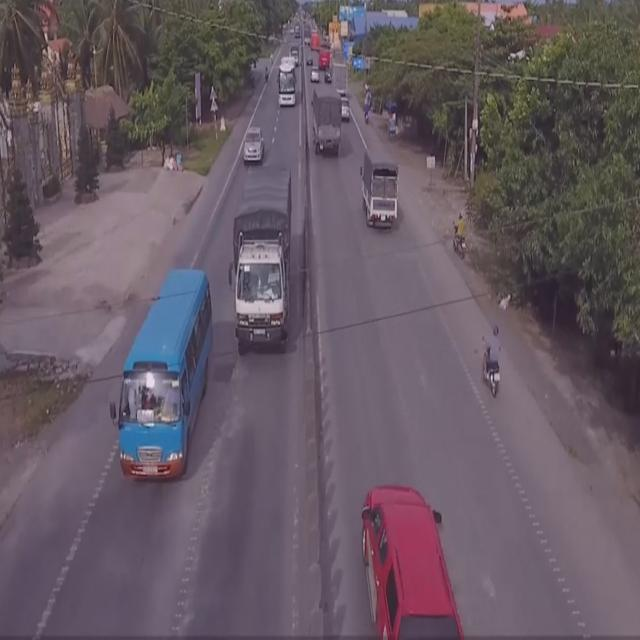bus: (110, 269, 213, 486), (276, 55, 298, 107)
car: (360, 478, 464, 640), (242, 127, 266, 168)
motorbike: (480, 328, 504, 398), (452, 213, 468, 261)
truck: (230, 168, 292, 354), (359, 145, 402, 235), (310, 85, 344, 158)
